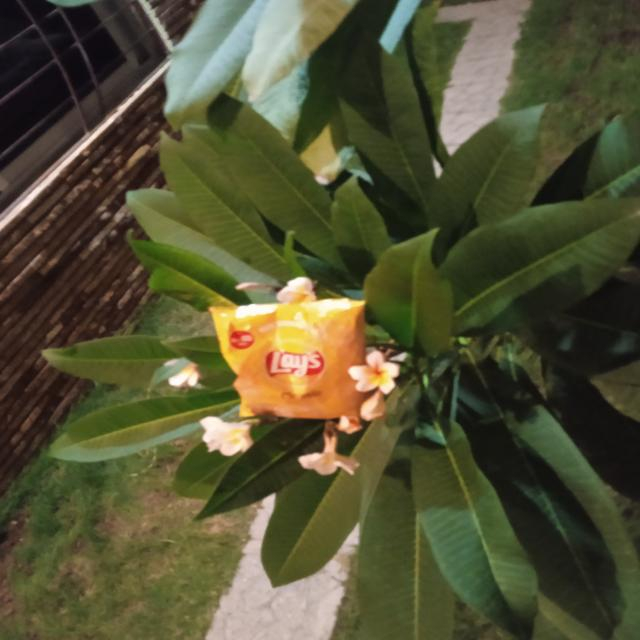Plastic: (207, 294, 371, 429)
